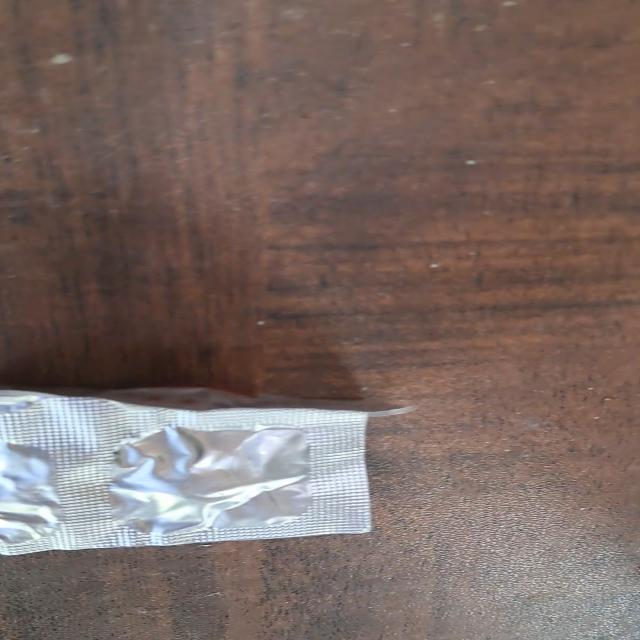Anorganik: (0, 377, 433, 568)
